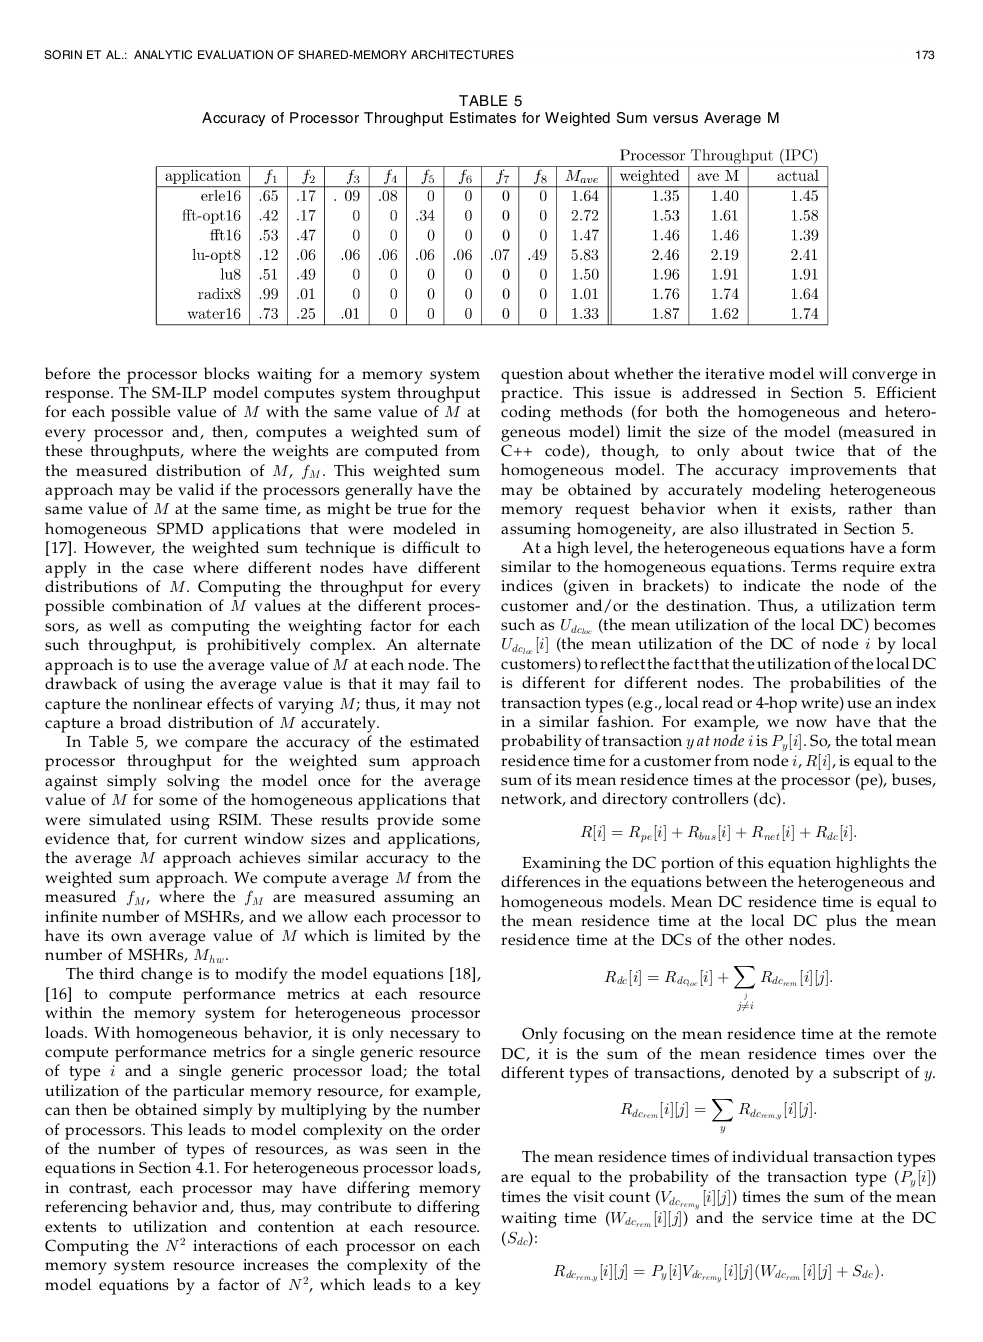Table: (155, 147, 828, 326)
formula: (604, 966, 831, 1011), (552, 1262, 882, 1283), (620, 1099, 815, 1133), (580, 824, 855, 843), (502, 1231, 536, 1246)
